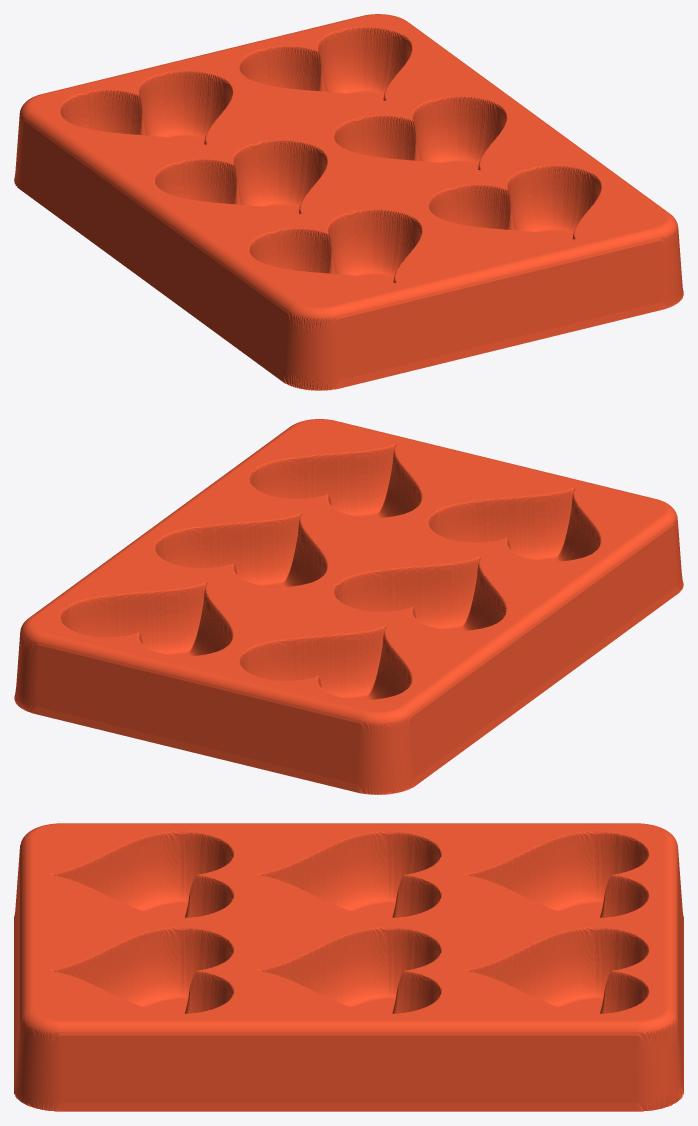
Rendered from mold.glb.
The picture shows the model from 3 angles, top to bottom: view 1: azimuth 30°, elevation 25°; view 2: azimuth 150°, elevation 25°; view 3: azimuth 270°, elevation 25°; orthographic projection. The views are drawn at different scales.
Visible parts, largest first — view 1: geometry_0; view 2: geometry_0; view 3: geometry_0.
Part boxes in pixels (x1,y1,x2,y2): geometry_0: [14, 14, 683, 390]; geometry_0: [14, 419, 683, 794]; geometry_0: [14, 823, 683, 1111].
Bounding box in the file's own units: 0.0955 × 0.0175 × 0.1276.
